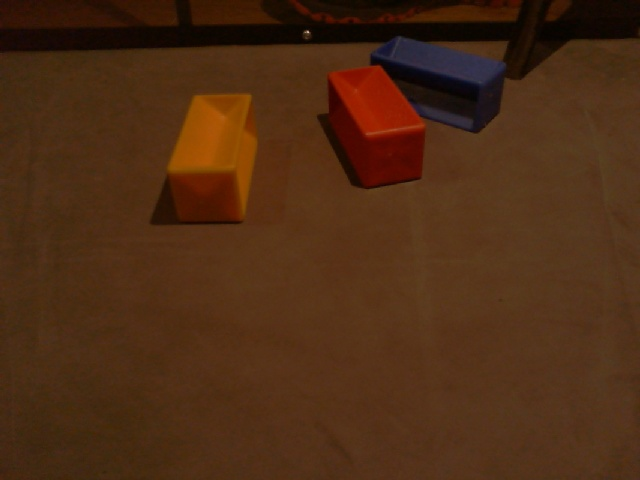BlueSample: (369, 36, 508, 133)
RedSample: (323, 62, 428, 191)
YellowSample: (165, 89, 257, 224)
